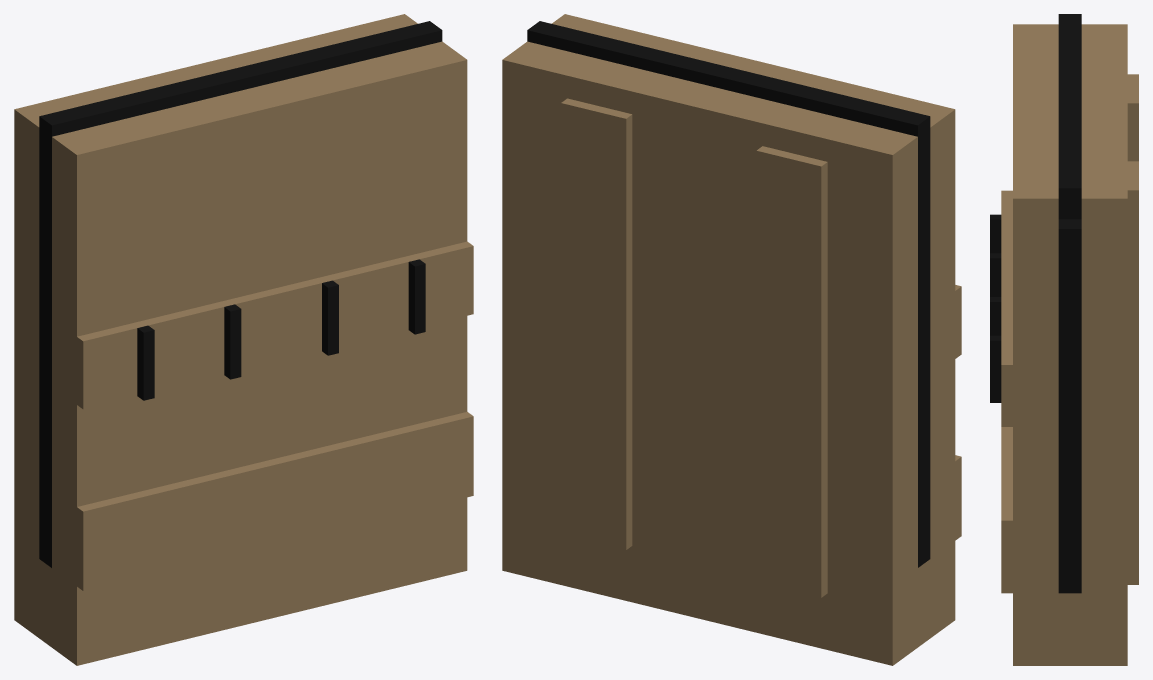
File: tool_pouch.glb
3 views of the same model, side by side, from view 1: azimuth 30°, elevation 25°; view 2: azimuth 150°, elevation 25°; view 3: azimuth 270°, elevation 25° (orthographic). The views are drawn at different scales.
Parts seen in each view (by area): view 1: tool_pouch:compound; view 2: tool_pouch:compound; view 3: tool_pouch:compound.
Boxes of the visible parts, box(x1,y1,x2,y2) form: tool_pouch:compound: box(14, 14, 473, 665); tool_pouch:compound: box(502, 14, 961, 665); tool_pouch:compound: box(990, 14, 1138, 665).
Size of the model in its own units: 0.152 by 0.184 by 0.052.
